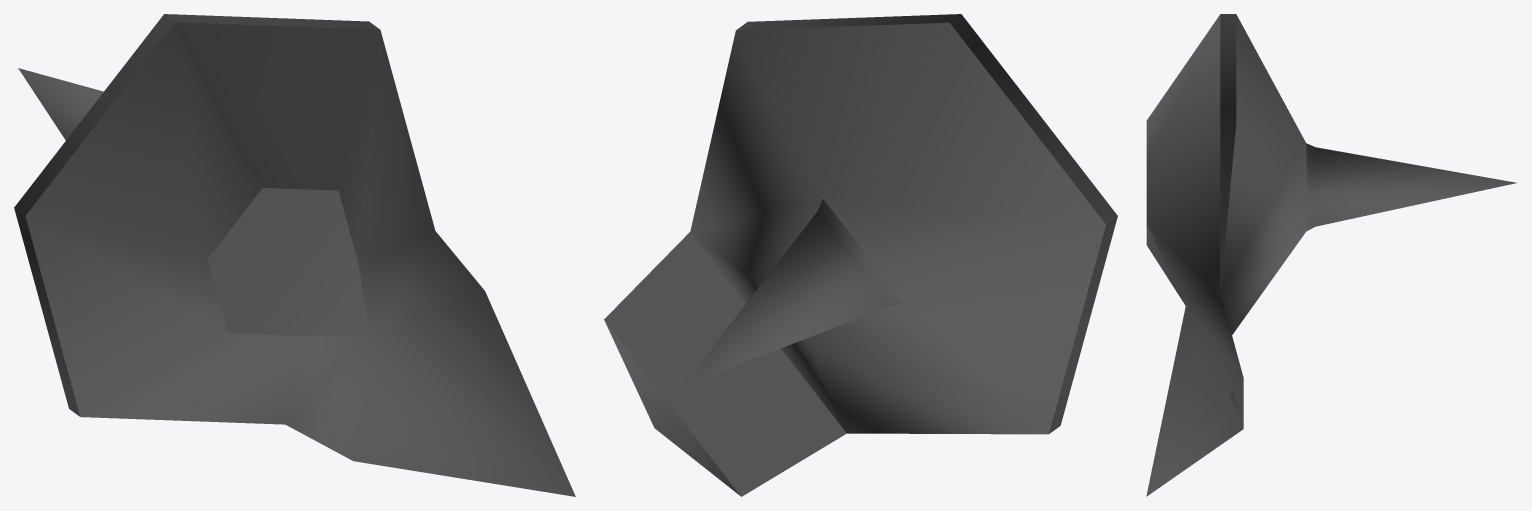
The model's file is stat_vossk_arm1.glb.
3 renders of one model, left to right at view 1: azimuth 30°, elevation 25°; view 2: azimuth 150°, elevation 25°; view 3: azimuth 270°, elevation 25°, orthographic. The views are drawn at different scales.
Parts seen in each view (by area): view 1: group_13; view 2: group_13; view 3: group_13.
Part boxes in pixels (box(x1,y1,x2,y2)): group_13: box(14, 14, 575, 496); group_13: box(604, 14, 1117, 496); group_13: box(1146, 14, 1516, 496).
Size of the model in its own units: 11670 by 11670 by 10784.
1 material, 1 textured.
